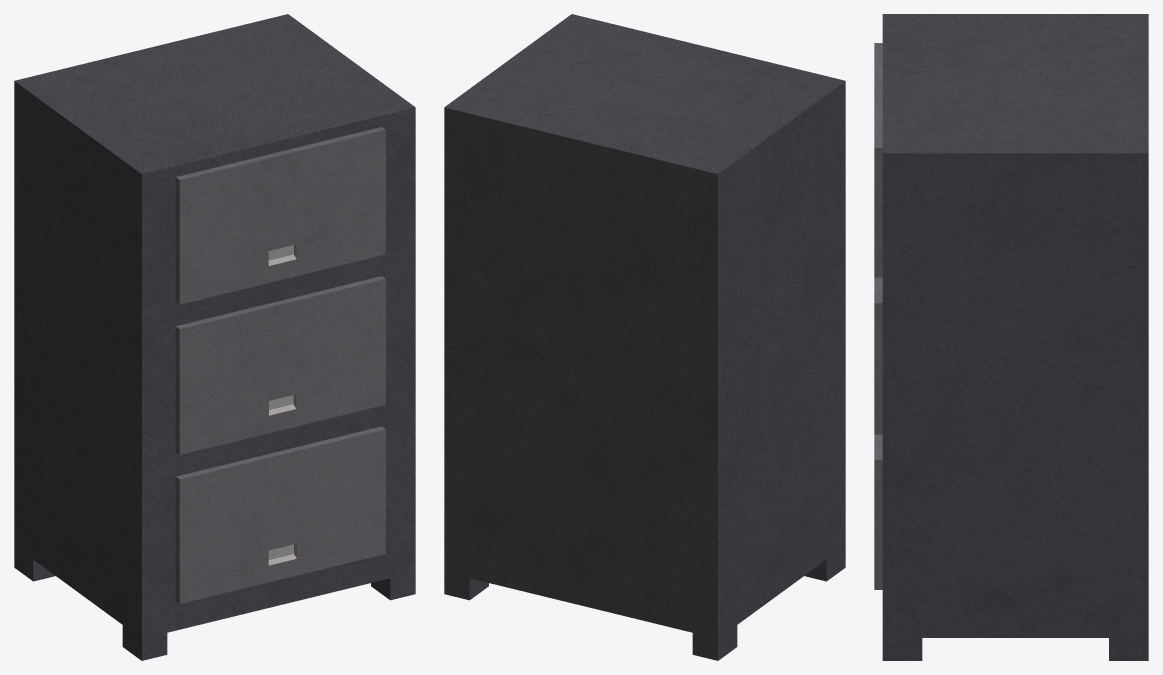
The model's file is iron_drawer2.fbx.
3 renders of one model, left to right at view 1: azimuth 30°, elevation 25°; view 2: azimuth 150°, elevation 25°; view 3: azimuth 270°, elevation 25°, orthographic. The views are drawn at different scales.
Visible parts, largest first — view 1: Cube.001; view 2: Cube.001; view 3: Cube.001.
Boxes of the visible parts, bbox=[...] form: Cube.001: bbox=[14, 14, 415, 660]; Cube.001: bbox=[444, 14, 845, 660]; Cube.001: bbox=[874, 14, 1148, 660].
Size of the model in its own units: 248 by 421 by 206.
